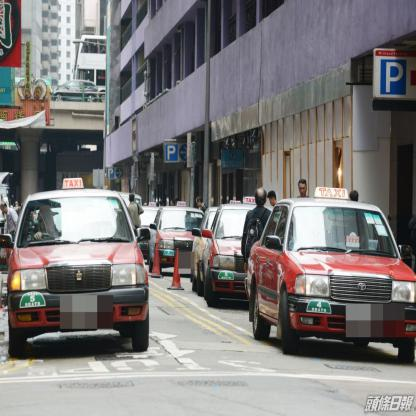taxi: (244, 184, 416, 386), (8, 172, 153, 376)
